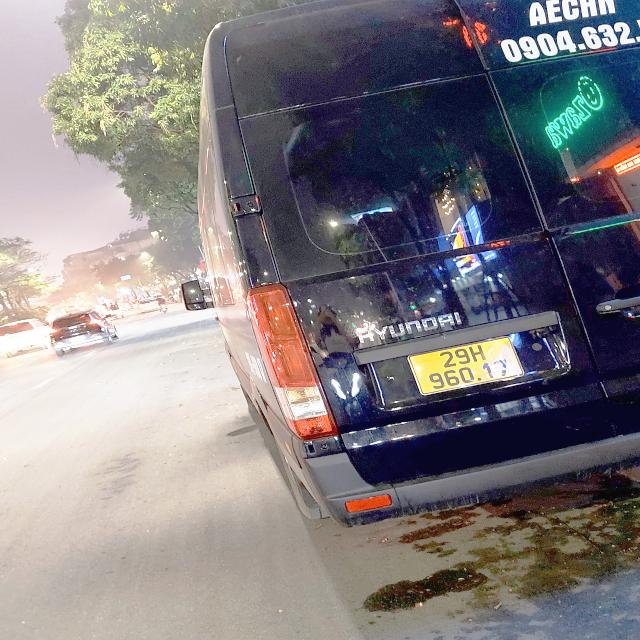license_plate: (406, 336, 528, 398)
